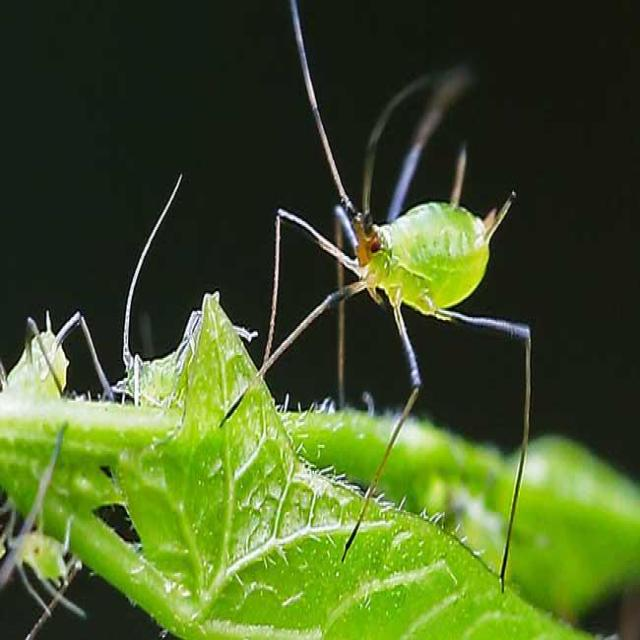Aphids: (230, 39, 573, 614)
